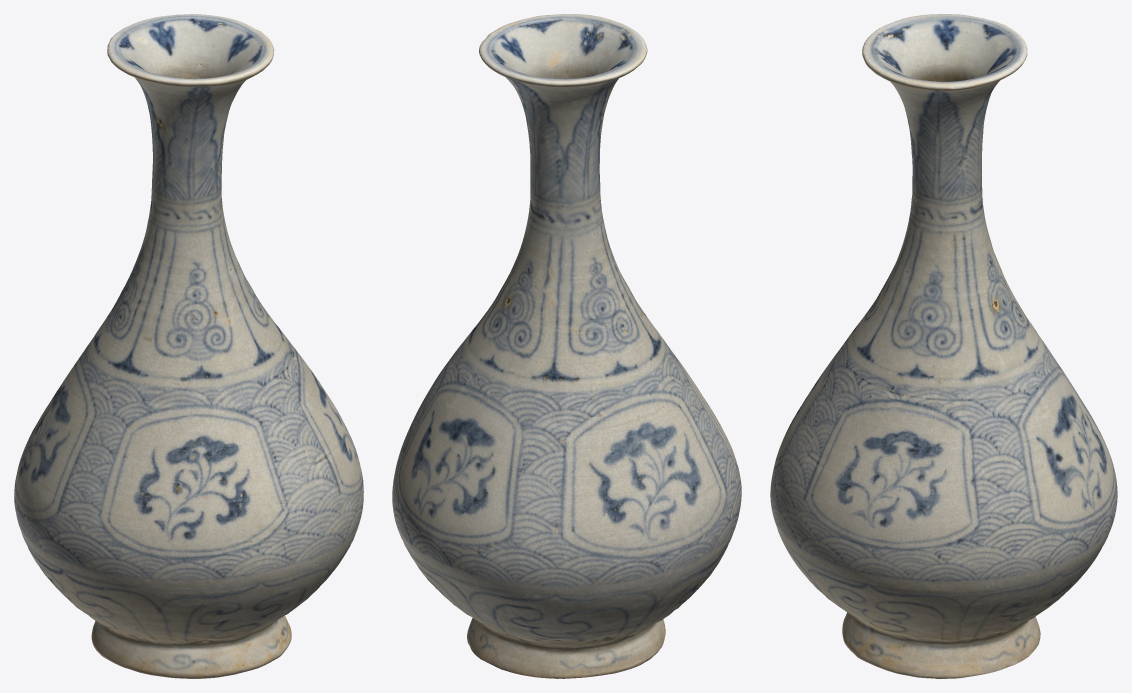
Rendered from vietnamese_bottle_vase_yu-hu_chun_15th_c_ce.glb.
3 views of the same model, side by side, from view 1: azimuth 30°, elevation 25°; view 2: azimuth 150°, elevation 25°; view 3: azimuth 270°, elevation 25° (orthographic).
Visible parts, largest first — view 1: Object_2; view 2: Object_2; view 3: Object_2.
Boxes of the visible parts, x1=… form: Object_2: x1=14, y1=14, x2=363, y2=678; Object_2: x1=392, y1=14, x2=741, y2=678; Object_2: x1=770, y1=14, x2=1117, y2=678.
Bounding box in the file's own units: 0.1431 × 0.2673 × 0.1426.
Materials: 1 (1 with a texture image).
